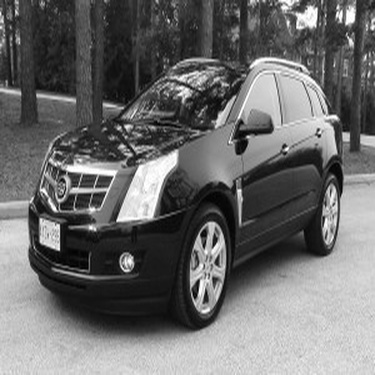car: (21, 46, 347, 342)
